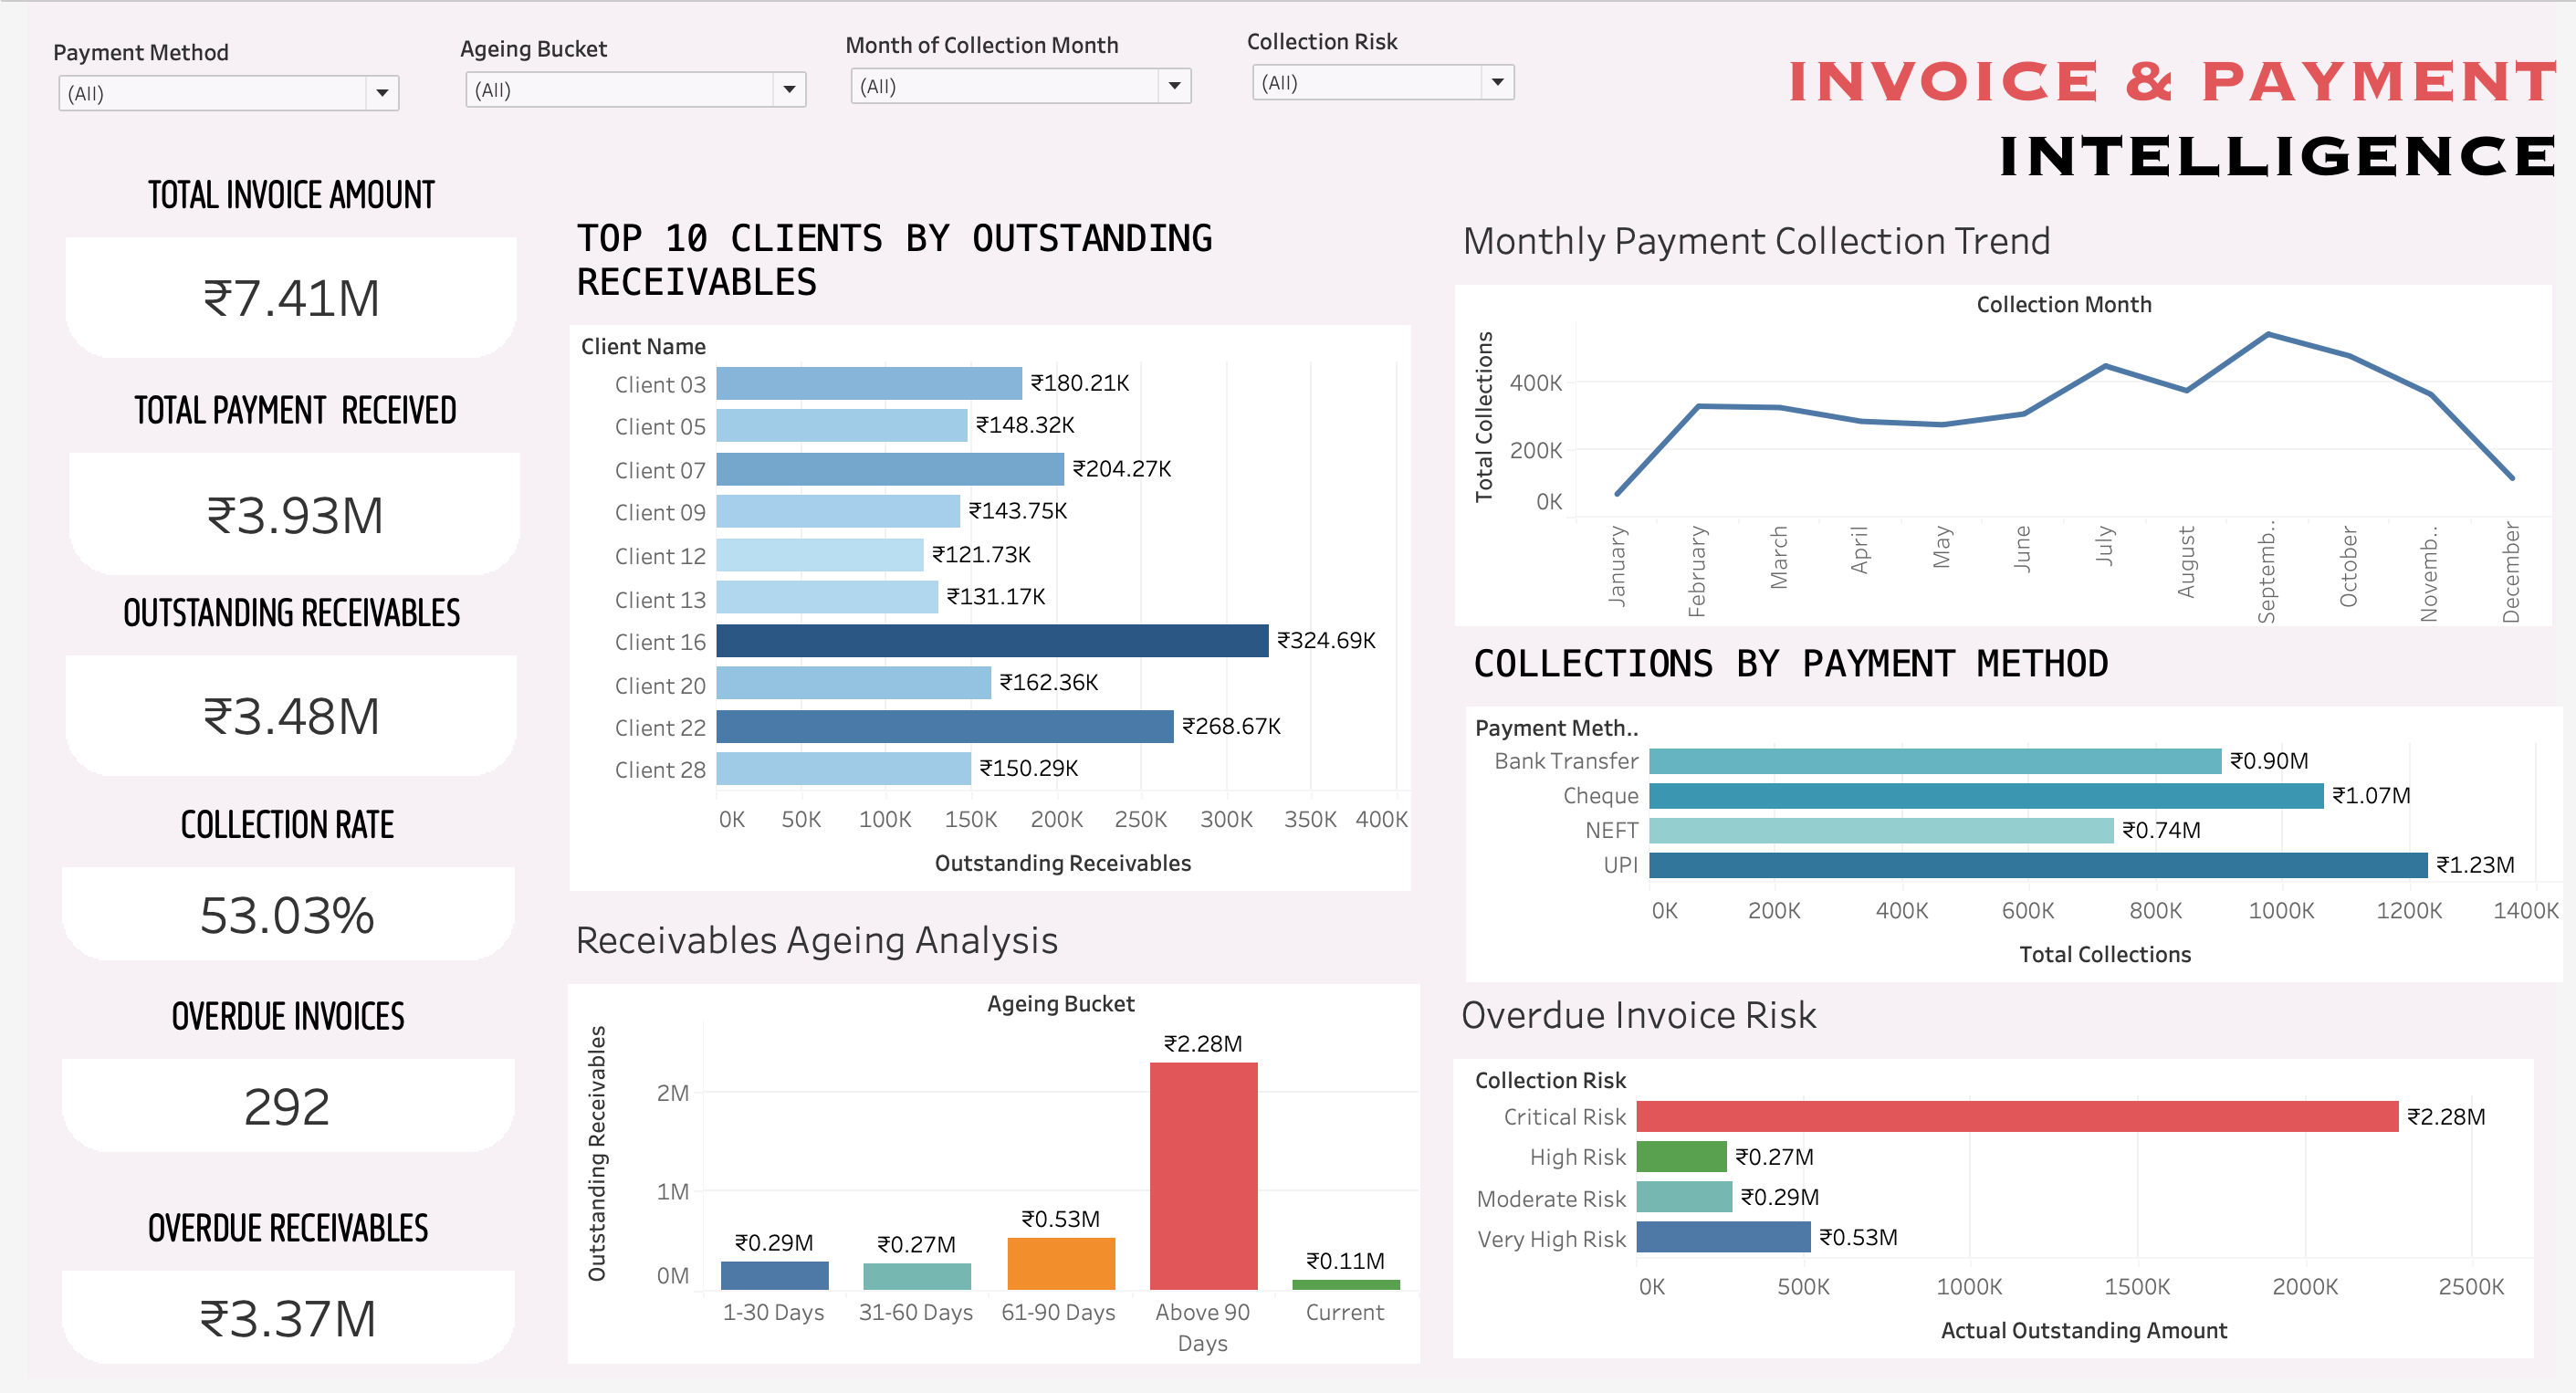

Layout of this report page (visuals, bound fields, positions):
{"tool":"tableau","page":{"name":"INVOICE & PAYMENT INTELLIGENCE","canvas":[1000,1000],"units":"permille","ordinal":2},"visuals":[{"type":"filter","title":"Overdue Invoice Risk","param":"[federated.0oxagqj1o8yvwt1h9mf210x5znik].[none:collection_risk:nk]","box":[482.1,17.2,108.1,58.4]},{"type":"filter","title":"Monthly Payment Collection Trend","param":"[federated.12or2t11qwn4cf16wc3ia0fysv8k].[mn:collection_month:ok]","box":[323.4,19.9,139.5,86.2]},{"type":"filter","title":"Receivables Ageing Analysis","param":"[federated.0j4gf2n1l6i8qr10ynjq30jtqadb].[none:ageing_bucket:nk]","box":[170.9,22.6,139.5,70.3]},{"type":"filter","title":"Payment Method Analysis","param":"[federated.1hg0kii0r6zdjz15up2ge108do3e].[none:payment_method:nk]","box":[10.5,25.2,139.5,58.4]},{"type":"worksheet","title":"KPI - Total Invoice Amount","mark":"Automatic","box":[14.8,124.7,178.7,133.9]},{"type":"worksheet","title":"Monthly Payment Collection Trend","mark":"Automatic","rows":["total_collections"],"cols":["collection_month"],"box":[565,148.5,434.2,305]},{"type":"worksheet","title":"Client Outstanding Analysis","mark":"Bar","rows":["client_name"],"cols":["outstanding_receivables"],"box":[214.5,151.2,333,496]},{"type":"worksheet","title":"KPI - Payments Received","mark":"Automatic","box":[16.6,281.2,178.7,135.3]},{"type":"worksheet","title":"KPI - Outstanding Receivables","mark":"Automatic","box":[14.8,428.4,178.7,133.9]},{"type":"worksheet","title":"Payment Method Analysis","mark":"Bar","rows":["payment_method"],"cols":["total_collections"],"box":[569.3,460.2,434.2,252]},{"type":"worksheet","title":"KPI - Collection Rate","mark":"Automatic","box":[14,582.2,178.7,114.1]},{"type":"worksheet","title":"Receivables Ageing Analysis","mark":"Automatic","rows":["outstanding_receivables"],"cols":["ageing_bucket"],"box":[213.6,656.5,337.4,332.9]},{"type":"worksheet","title":"Overdue Invoice Risk","mark":"Automatic","rows":["collection_risk"],"cols":["actual_outstanding_amount"],"box":[564.1,710.9,427.2,274.5]},{"type":"worksheet","title":"KPI - Overdue Invoices","mark":"Automatic","box":[14,721.5,178.7,114.1]},{"type":"worksheet","title":"KPI - Overdue Receivables","mark":"Automatic","box":[14,875.3,178.7,114.1]}]}

Visuals, with their boxes on the dashboard's canvas, which has no fixed pixel size, in thousandths of its width and height (x1, y1, x2, y2). These are canvas units, not pixel positions in the 2576x1393 screenshot, which may show the page scaled, cropped or inside an application window:
"Overdue Invoice Risk" filter: Rect(482, 17, 590, 76)
"Monthly Payment Collection Trend" filter: Rect(323, 20, 463, 106)
"Receivables Ageing Analysis" filter: Rect(171, 23, 310, 93)
"Payment Method Analysis" filter: Rect(10, 25, 150, 84)
"KPI - Total Invoice Amount" worksheet: Rect(15, 125, 194, 259)
"Monthly Payment Collection Trend" worksheet: Rect(565, 148, 999, 454)
"Client Outstanding Analysis" worksheet (Bar marks): Rect(214, 151, 548, 647)
"KPI - Payments Received" worksheet: Rect(17, 281, 195, 416)
"KPI - Outstanding Receivables" worksheet: Rect(15, 428, 194, 562)
"Payment Method Analysis" worksheet (Bar marks): Rect(569, 460, 1004, 712)
"KPI - Collection Rate" worksheet: Rect(14, 582, 193, 696)
"Receivables Ageing Analysis" worksheet: Rect(214, 656, 551, 989)
"Overdue Invoice Risk" worksheet: Rect(564, 711, 991, 985)
"KPI - Overdue Invoices" worksheet: Rect(14, 722, 193, 836)
"KPI - Overdue Receivables" worksheet: Rect(14, 875, 193, 989)
